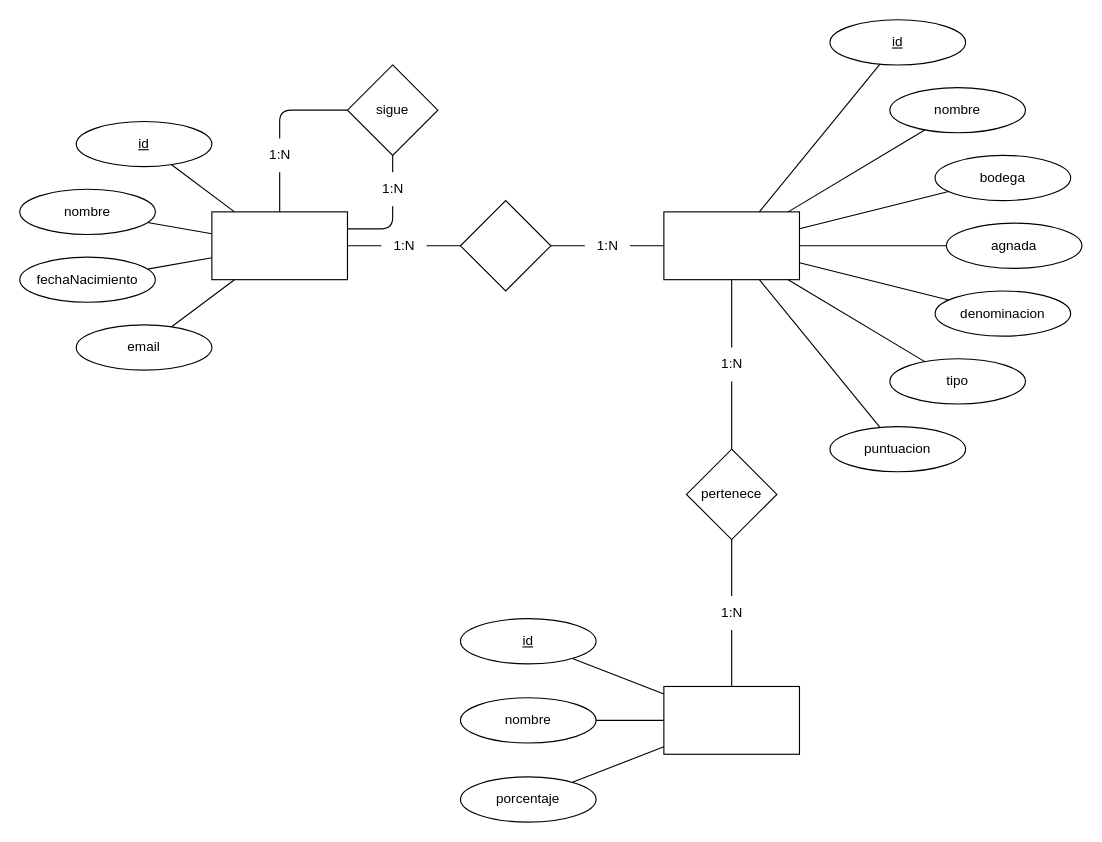
Some shapes in this 1102 by 842 pixel diagram are drawn without their labels. Each missing label, with the box of its shape:
añade: (459, 199, 551, 291)
TipoUva: (663, 685, 799, 754)
Usuario: (211, 211, 347, 280)
Vino: (663, 211, 799, 280)
